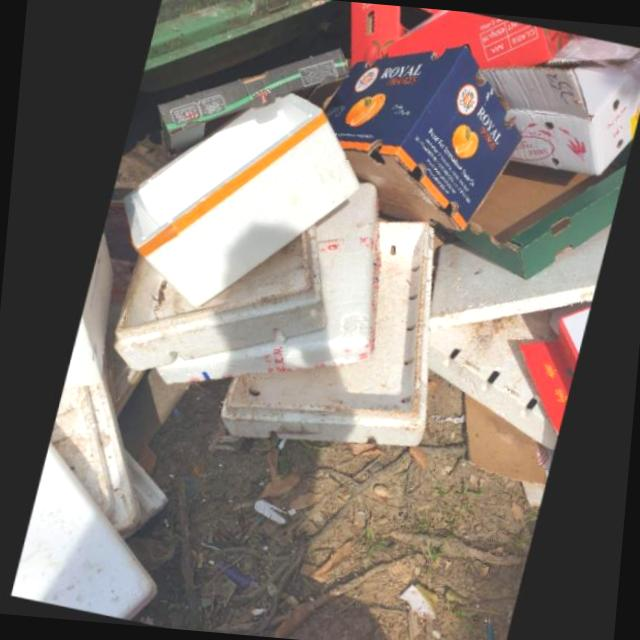carton: (320, 46, 518, 234), (438, 163, 624, 282), (153, 49, 344, 159)
xop: (119, 95, 356, 309), (219, 221, 435, 450), (153, 184, 376, 385), (111, 227, 325, 372), (425, 304, 589, 454), (427, 226, 609, 335)
